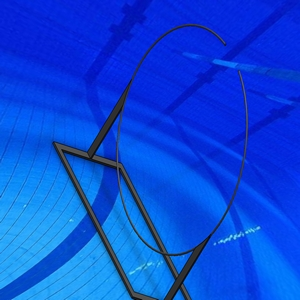circle: (52, 23, 249, 298)
